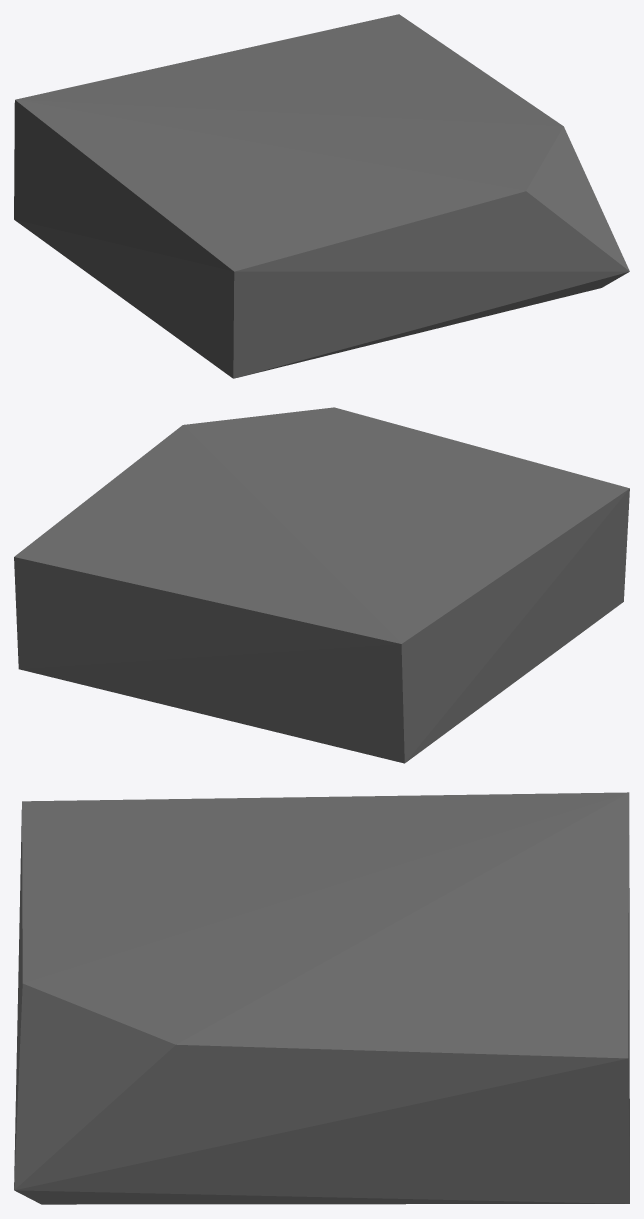
File: Tile_07.fbx
3 views of the same model, one above another, from view 1: azimuth 30°, elevation 25°; view 2: azimuth 150°, elevation 25°; view 3: azimuth 270°, elevation 25° (orthographic). The views are drawn at different scales.
Visible parts, largest first — view 1: Tile_07; view 2: Tile_07; view 3: Tile_07.
Boxes of the visible parts, x1=… form: Tile_07: x1=14, y1=14, x2=629, y2=378; Tile_07: x1=14, y1=407, x2=629, y2=763; Tile_07: x1=14, y1=792, x2=629, y2=1204.
Bounding box in the file's own units: 0.5913 × 0.1765 × 0.5889.
